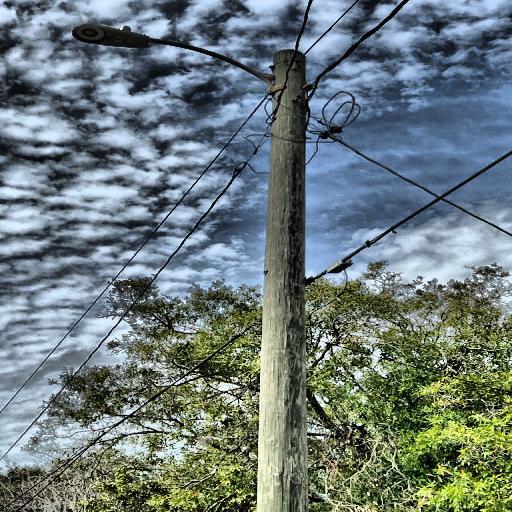pole: (238, 40, 328, 512)
street light: (68, 22, 284, 99)
